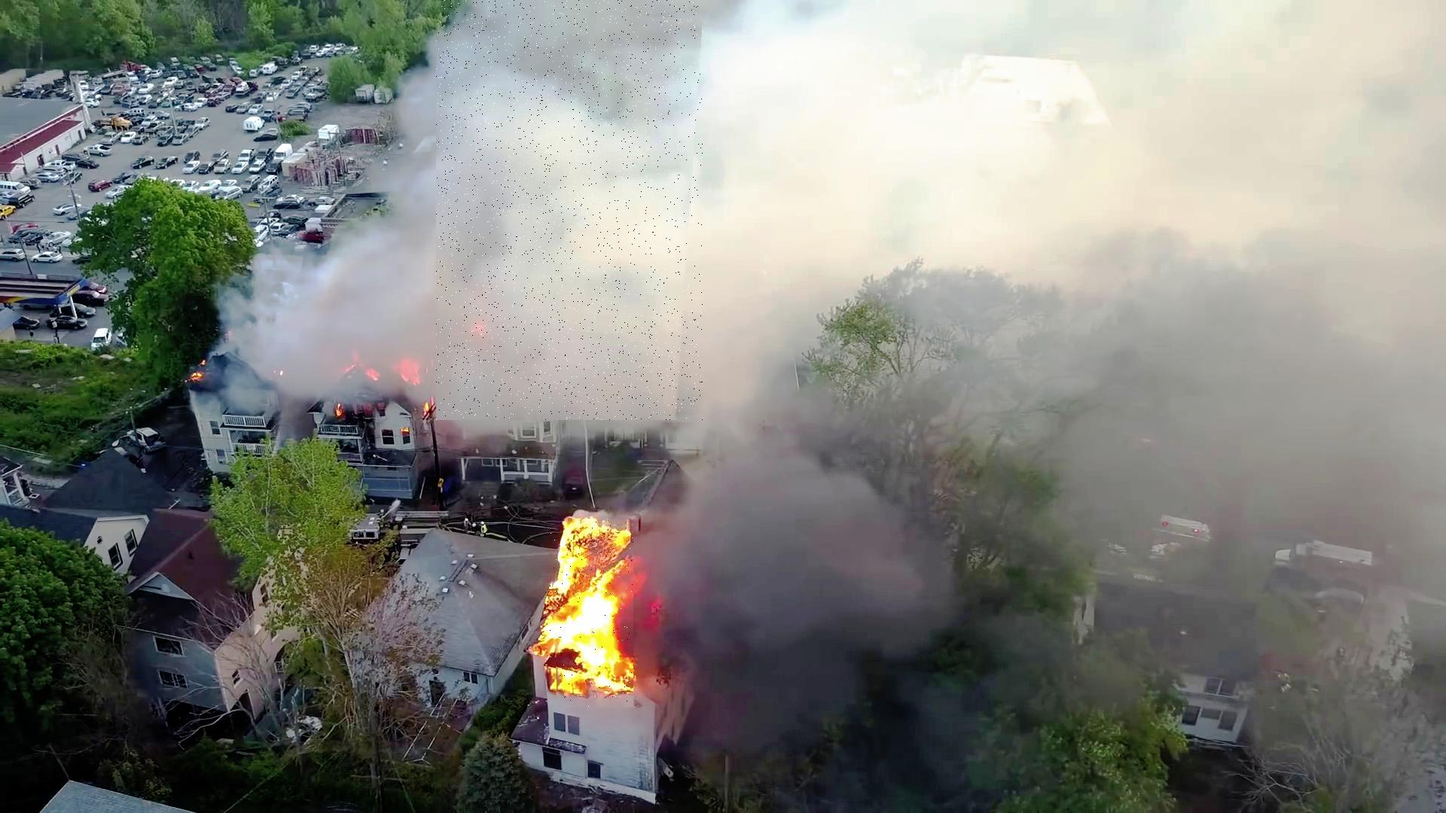fire: (549, 519, 634, 708)
smoke: (436, 0, 703, 420)
